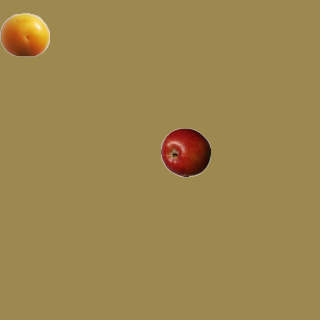Apple Braeburn: (160, 127, 210, 177)
Cherry Wax Yellow: (0, 9, 49, 59)
